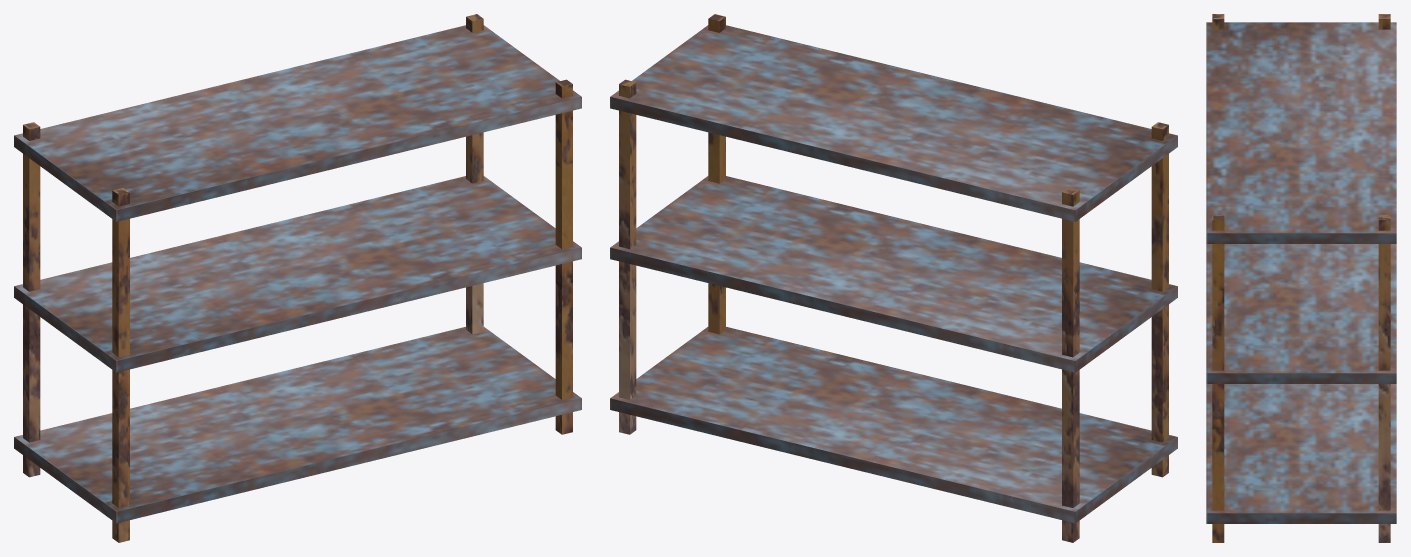
File: warehouse_racks.glb
3 renders of one model, left to right at view 1: azimuth 30°, elevation 25°; view 2: azimuth 150°, elevation 25°; view 3: azimuth 270°, elevation 25°, orthographic. The views are drawn at different scales.
Parts seen in each view (by area): view 1: Shelf3-col, Shelf2-col, Shelf1-col, cuboid0-col, cuboid3-col, cuboid1-col, cuboid2-col; view 2: Shelf3-col, Shelf2-col, Shelf1-col, cuboid1-col, cuboid2-col, cuboid0-col, cuboid3-col; view 3: Shelf3-col, Shelf1-col, Shelf2-col, cuboid2-col, cuboid3-col.
Part boxes in pixels (x1,y1,x2,y2): Shelf3-col: (14,25,581,221); Shelf2-col: (14,176,581,372); Shelf1-col: (14,327,581,523); cuboid0-col: (112,187,129,542); cuboid3-col: (555,79,572,434); cuboid1-col: (23,122,40,477); cuboid2-col: (466,14,483,334); Shelf3-col: (610,25,1177,221); Shelf2-col: (610,176,1177,372); Shelf1-col: (610,327,1177,523); cuboid1-col: (1062,187,1079,542); cuboid2-col: (619,79,636,434); cuboid0-col: (1151,122,1168,477); cuboid3-col: (708,14,725,334); Shelf3-col: (1206,22,1396,243); Shelf1-col: (1206,384,1396,523); Shelf2-col: (1206,244,1396,383); cuboid2-col: (1378,215,1390,542); cuboid3-col: (1212,215,1224,542).
Bounding box in the file's own units: 5.25 × 3.75 × 2.
Materials: 2 (2 with a texture image).
